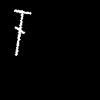double_crochet: (14, 10, 30, 55)
